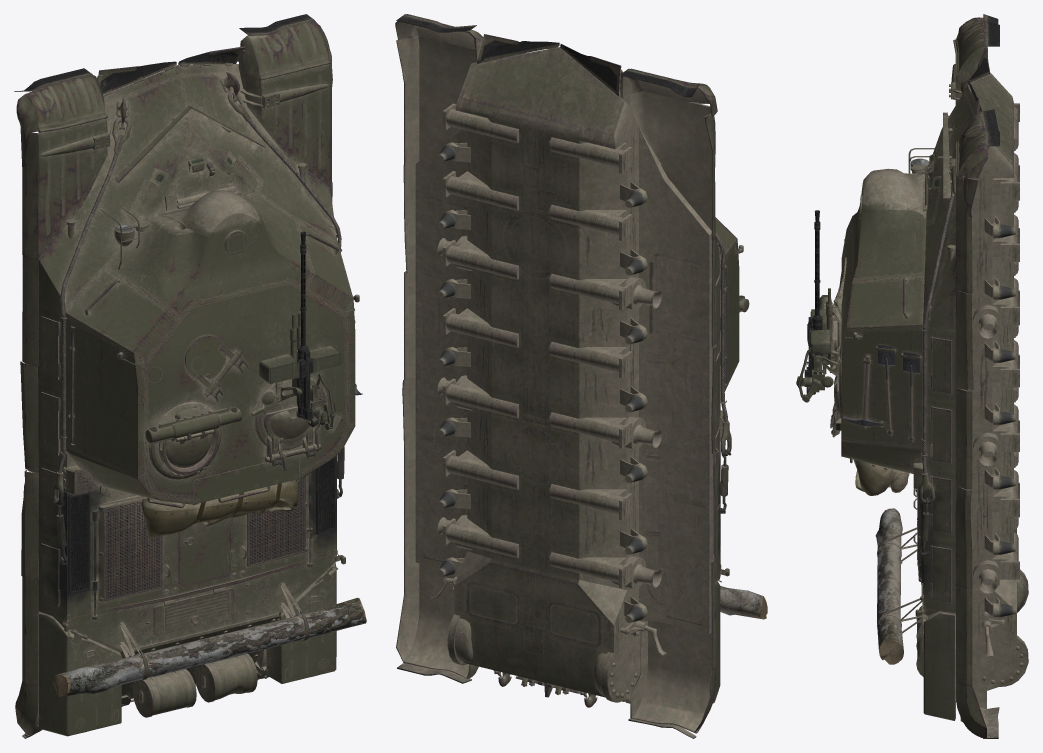
File: Hull.glb
3 views of the same model, side by side, from view 1: azimuth 30°, elevation 25°; view 2: azimuth 150°, elevation 25°; view 3: azimuth 270°, elevation 25° (orthographic). The views are drawn at different scales.
Parts seen in each view (by area): view 1: set_0_group_0; view 2: set_0_group_0; view 3: set_0_group_0.
Part boxes in pixels (x1=…): set_0_group_0: x1=14, y1=14, x2=366, y2=738; set_0_group_0: x1=395, y1=14, x2=767, y2=738; set_0_group_0: x1=796, y1=14, x2=1028, y2=738.
Bounding box in the file's own units: 3.71 × 7.23 × 2.53.
Materials: 1 (1 with a texture image).
